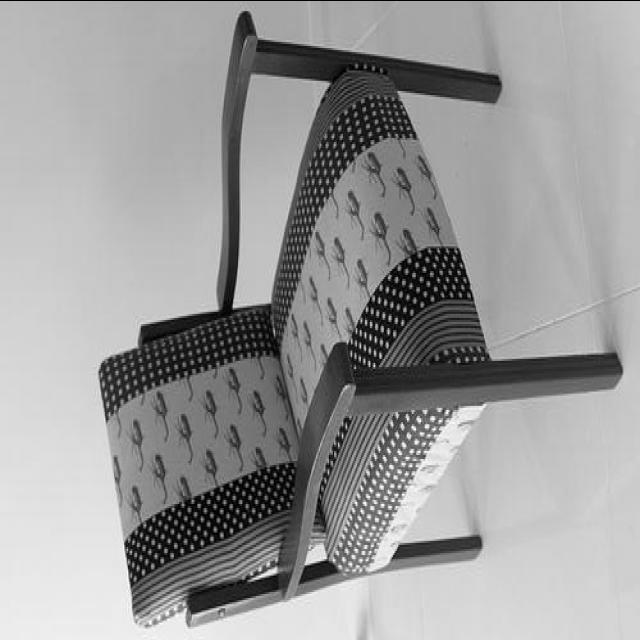chair: (100, 9, 620, 630)
